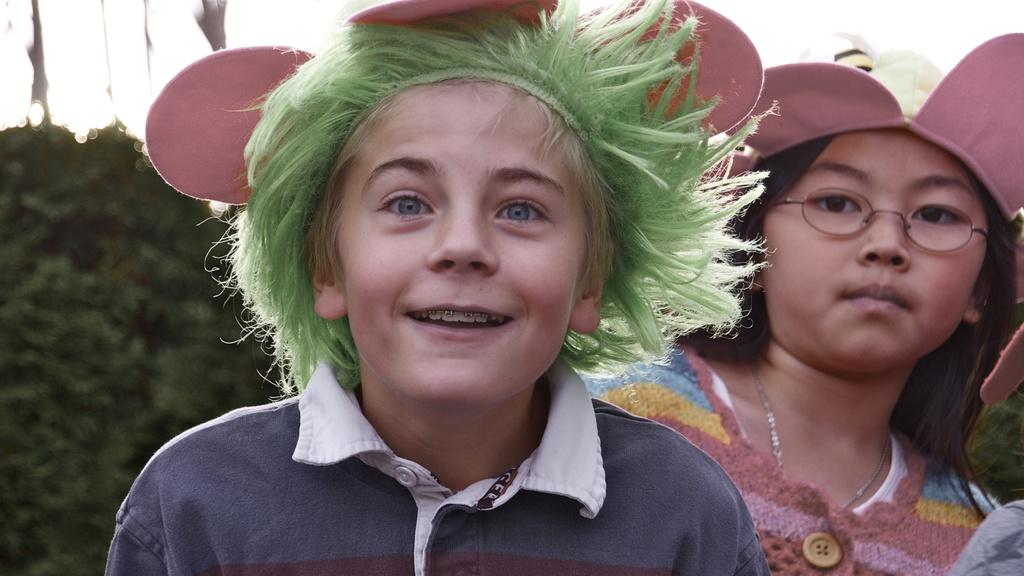Hat: (144, 0, 766, 210), (698, 33, 1022, 402)
